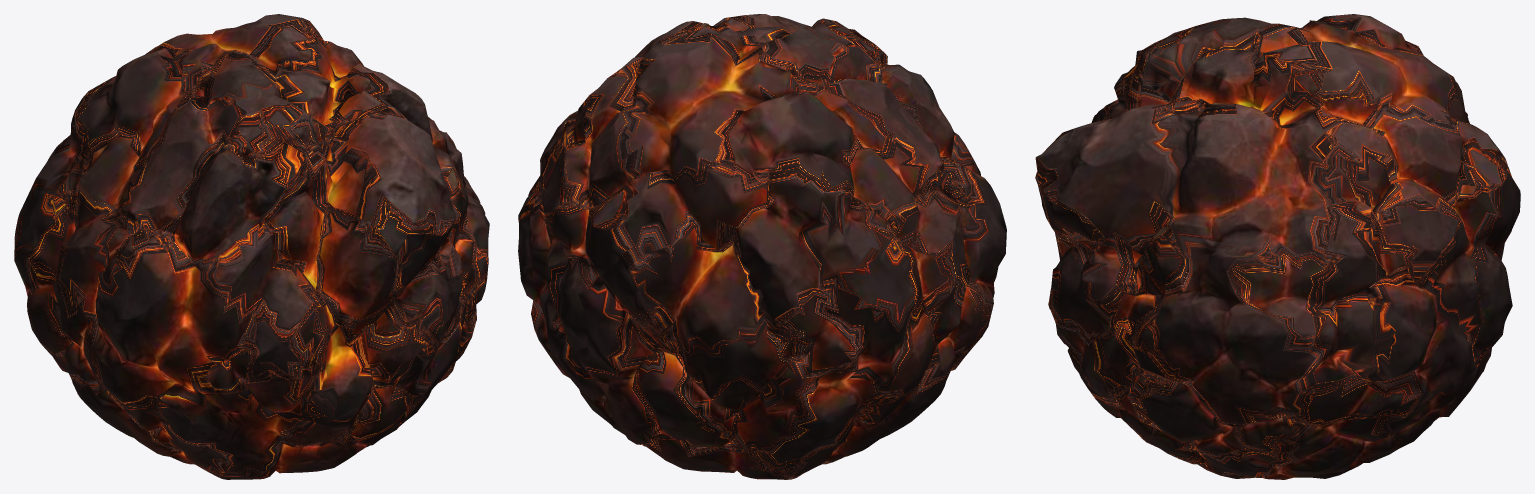
The model's file is meteor.glb.
3 views of the same model, side by side, from view 1: azimuth 30°, elevation 25°; view 2: azimuth 150°, elevation 25°; view 3: azimuth 270°, elevation 25° (orthographic). The views are drawn at different scales.
Visible parts, largest first — view 1: tripo_node_7dc9e10e-bda3-4de2-ab73-4e74fc0e127a; view 2: tripo_node_7dc9e10e-bda3-4de2-ab73-4e74fc0e127a; view 3: tripo_node_7dc9e10e-bda3-4de2-ab73-4e74fc0e127a.
Part boxes in pixels (bbox=[...]): tripo_node_7dc9e10e-bda3-4de2-ab73-4e74fc0e127a: bbox=[14, 14, 489, 479]; tripo_node_7dc9e10e-bda3-4de2-ab73-4e74fc0e127a: bbox=[518, 14, 1006, 479]; tripo_node_7dc9e10e-bda3-4de2-ab73-4e74fc0e127a: bbox=[1035, 14, 1520, 479].
Bounding box in the file's own units: 0.9781 × 0.9557 × 0.9664.
1 material, 1 textured.
